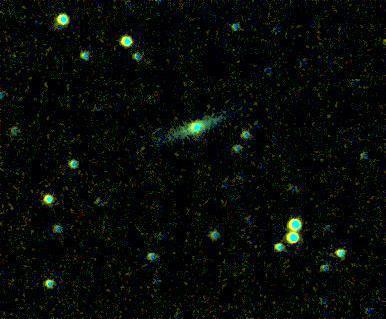star: (127, 132, 157, 162)
